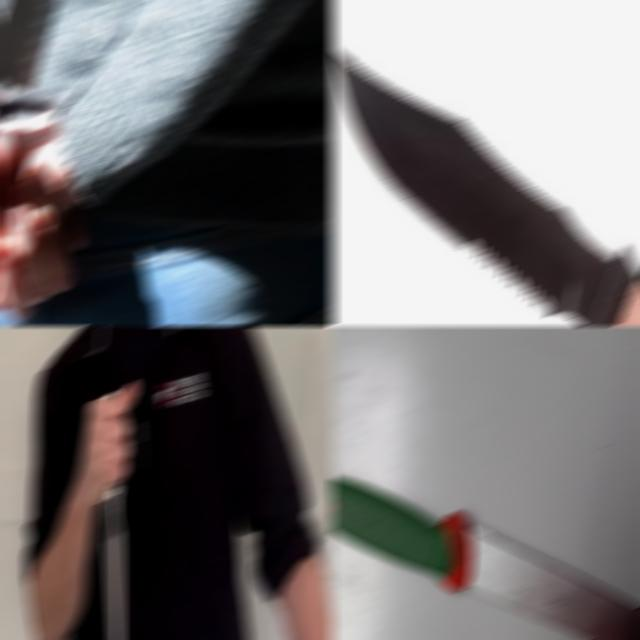Knife: (330, 475, 640, 640), (0, 0, 108, 142)
Knife_Handle: (330, 47, 640, 326), (0, 0, 142, 326), (80, 381, 140, 640)
